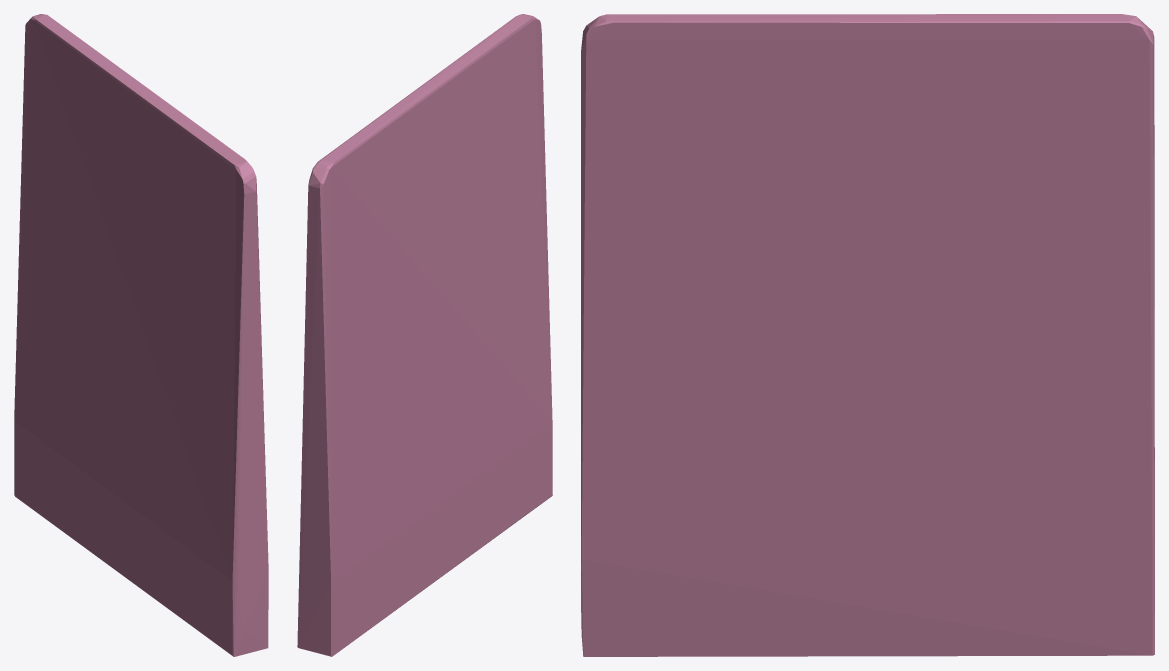
Rendered from sign_hospital_sidewall_a09.glb.
3 renders of one model, left to right at view 1: azimuth 30°, elevation 25°; view 2: azimuth 150°, elevation 25°; view 3: azimuth 270°, elevation 25°, orthographic. The views are drawn at different scales.
Parts seen in each view (by area): view 1: geometry_0; view 2: geometry_0; view 3: geometry_0.
Part boxes in pixels (x1=…): geometry_0: x1=14, y1=14, x2=268, y2=656; geometry_0: x1=297, y1=14, x2=552, y2=656; geometry_0: x1=581, y1=14, x2=1154, y2=656.
Size of the model in its own units: 0.0374 by 0.4796 by 0.397.
